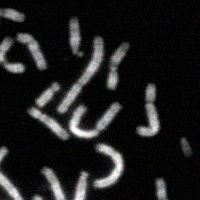chromosome: (56, 36, 103, 113), (68, 101, 119, 138), (93, 142, 125, 187), (135, 83, 160, 136), (28, 107, 68, 140), (44, 166, 80, 200), (105, 42, 130, 89), (17, 32, 47, 71), (0, 160, 24, 200), (0, 36, 24, 72), (67, 16, 87, 57), (154, 177, 189, 200), (0, 6, 26, 32), (36, 80, 59, 107), (72, 172, 89, 200), (0, 146, 9, 195), (178, 134, 193, 159), (32, 195, 57, 200), (0, 199, 9, 200)
